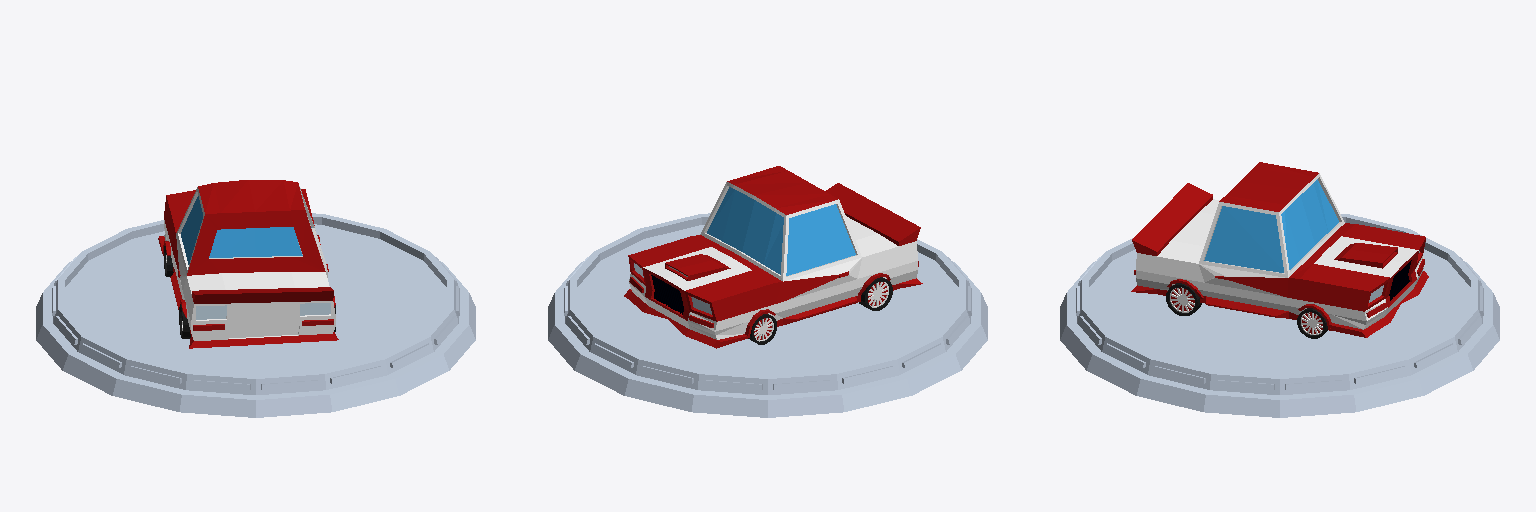
Rendered from carB.obj.
3 views of the same model, side by side, from view 1: azimuth 30°, elevation 25°; view 2: azimuth 150°, elevation 25°; view 3: azimuth 270°, elevation 25° (orthographic).
Parts seen in each view (by area): view 1: carB; view 2: carB; view 3: carB.
Part boxes in pixels (x1,y1,x2,y2): carB: (36,180,475,417); carB: (548,166,987,417); carB: (1060,162,1499,417).
Size of the model in its own units: 4.26 by 1.43 by 4.2.